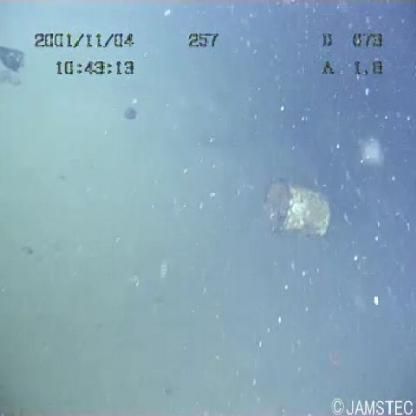Rác: (257, 178, 337, 239)
